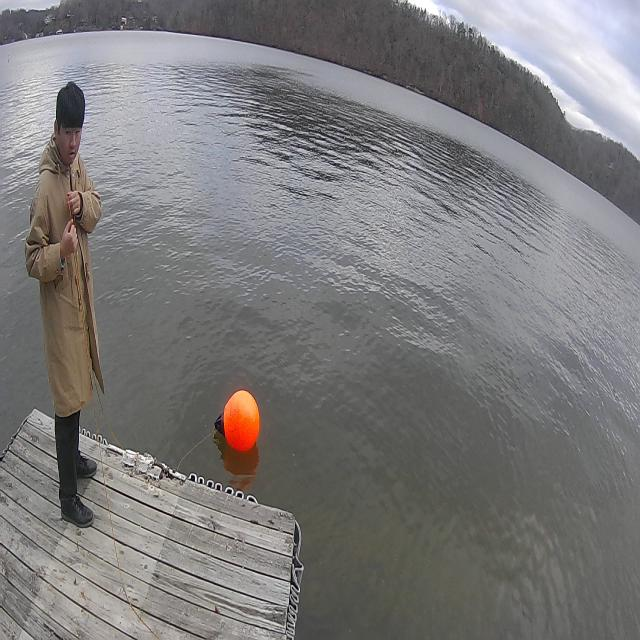Buoy: (221, 386, 261, 455)
